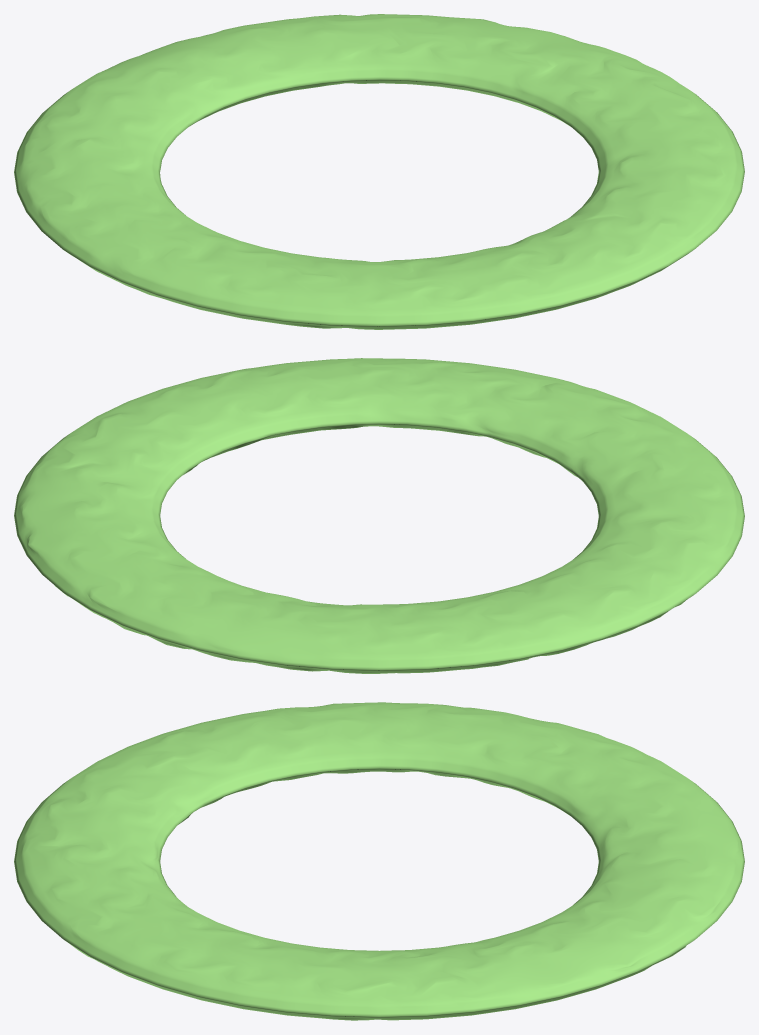
File: amuletring.glb
3 views of the same model, one above another, from view 1: azimuth 30°, elevation 25°; view 2: azimuth 150°, elevation 25°; view 3: azimuth 270°, elevation 25° (orthographic).
Parts seen in each view (by area): view 1: Torus; view 2: Torus; view 3: Torus.
Part boxes in pixels (box(x1,y1,x2,y2)): Torus: box(14, 14, 744, 329); Torus: box(14, 358, 744, 673); Torus: box(14, 702, 744, 1020).
Bounding box in the file's own units: 2.83 × 0.1422 × 2.82.
